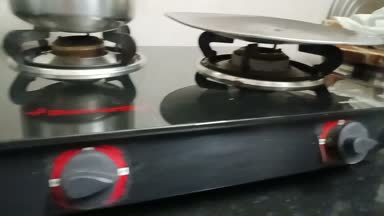flame_gas_off: (209, 38, 380, 167), (16, 27, 132, 208)
